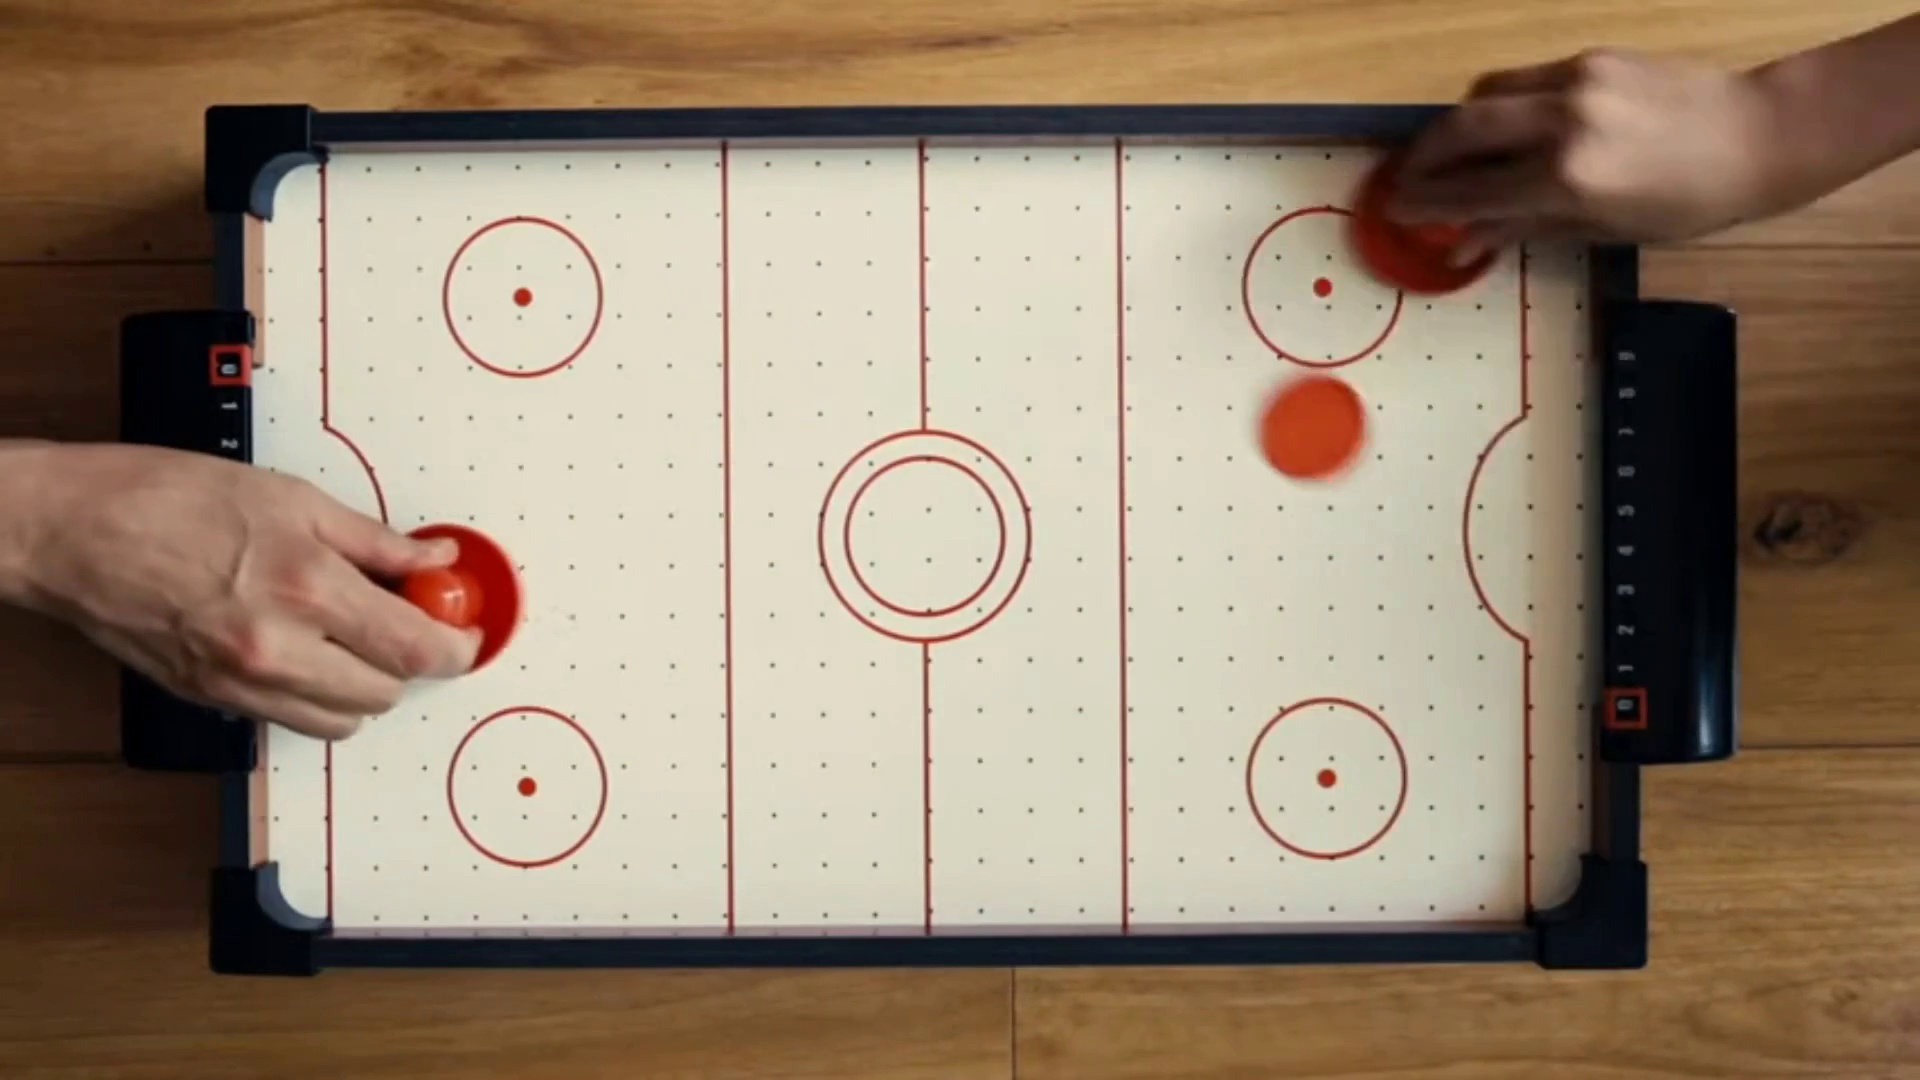player1: (373, 527, 518, 673)
player2: (1351, 152, 1491, 298)
puck: (1260, 376, 1366, 483)
table: (261, 162, 1580, 922)
